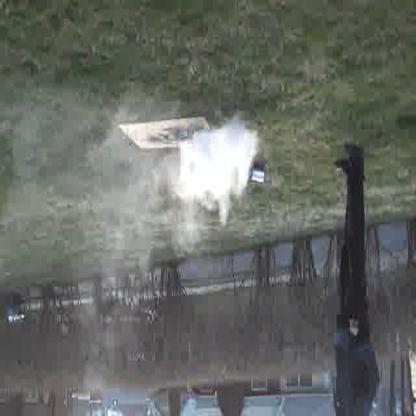Smoke: (170, 127, 256, 223)
